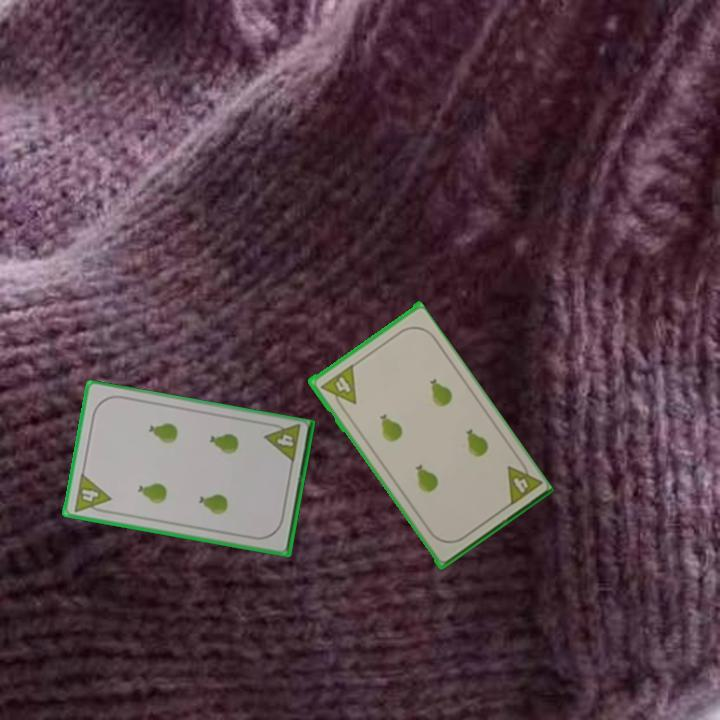4p: (316, 362, 359, 414), (503, 455, 544, 509), (70, 470, 114, 517), (261, 419, 303, 466)
